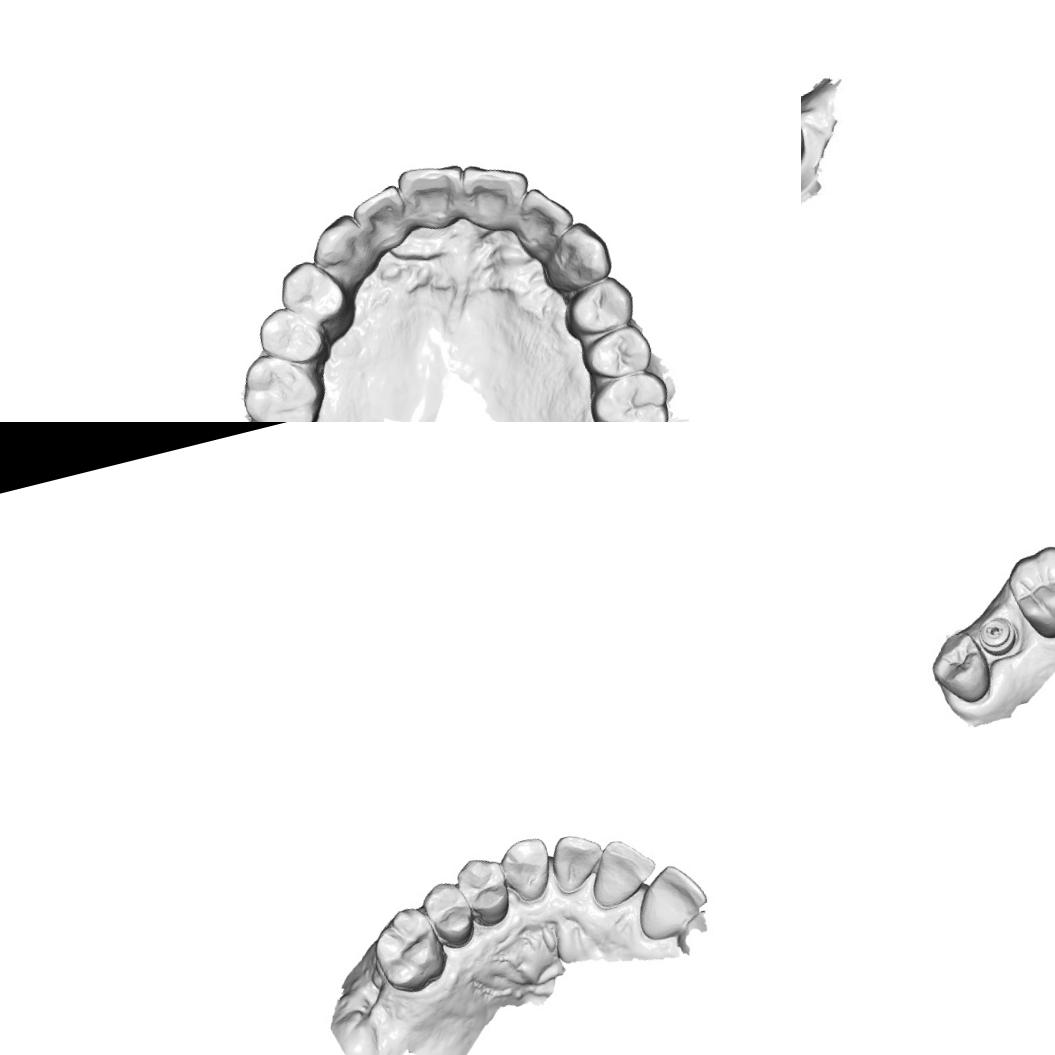canine: (530, 214, 618, 300), (302, 207, 374, 290), (496, 832, 560, 906)
implant_minus: (972, 610, 1026, 663)
incisor: (452, 150, 538, 238), (627, 858, 715, 944), (392, 155, 474, 236), (582, 830, 664, 910), (508, 179, 578, 252), (347, 181, 413, 255), (543, 827, 610, 897)
molar: (364, 900, 454, 998), (230, 340, 332, 422), (921, 622, 999, 713), (998, 539, 1055, 648), (581, 364, 681, 422)
premolar: (272, 251, 352, 334), (251, 299, 329, 376), (556, 270, 641, 340), (576, 318, 657, 386), (452, 850, 516, 932), (418, 875, 478, 953)
